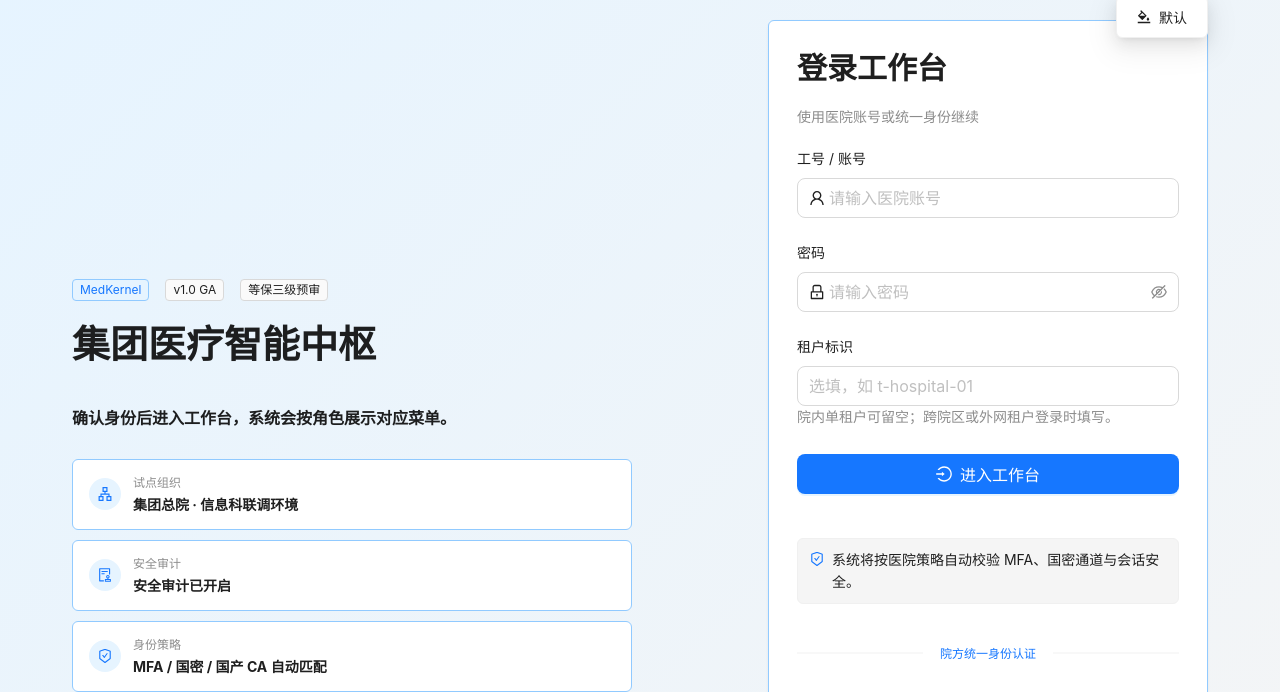
Test: Login › 统一身份入口折叠展示待配置方式
Click the button "院方统一身份认证" at x=988, y=652, box [939, 643, 1037, 662]
(page scrolled)
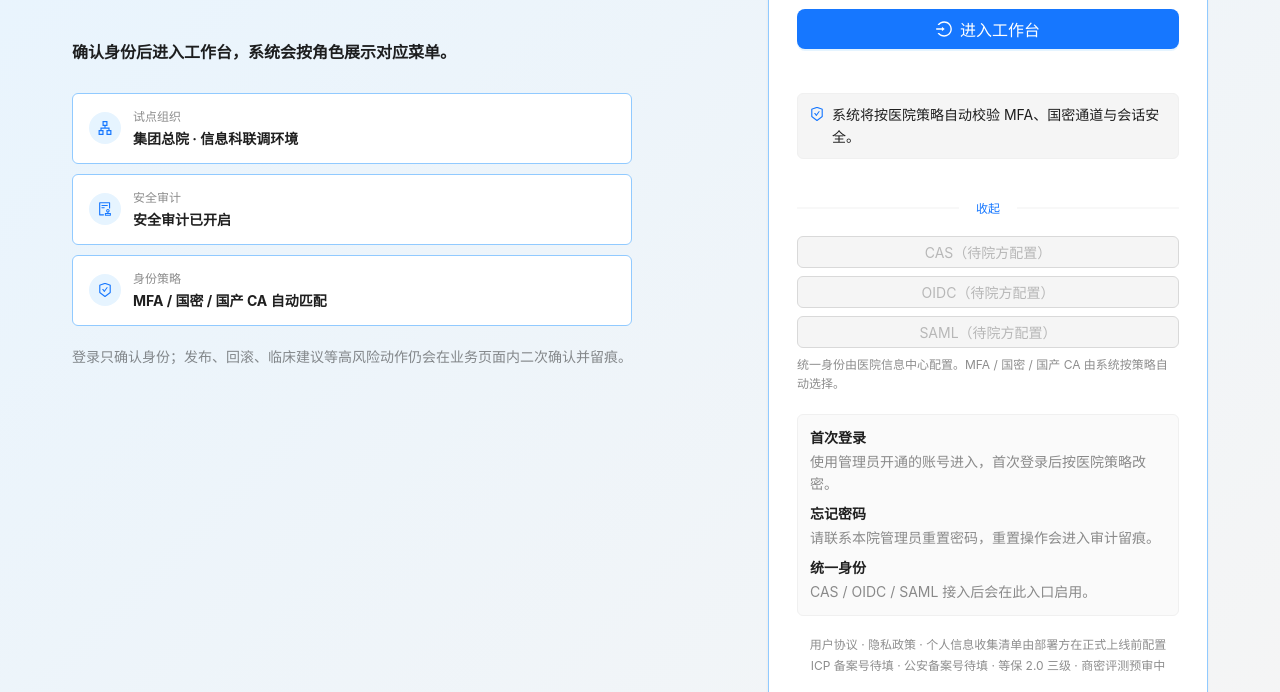
Check: the button "CAS（待院方配置）" is disabled, box [797, 236, 1179, 268]
Check: the button "OIDC（待院方配置）" is disabled, box [797, 276, 1179, 308]
Check: the button "SAML（待院方配置）" is disabled, box [797, 316, 1179, 348]
